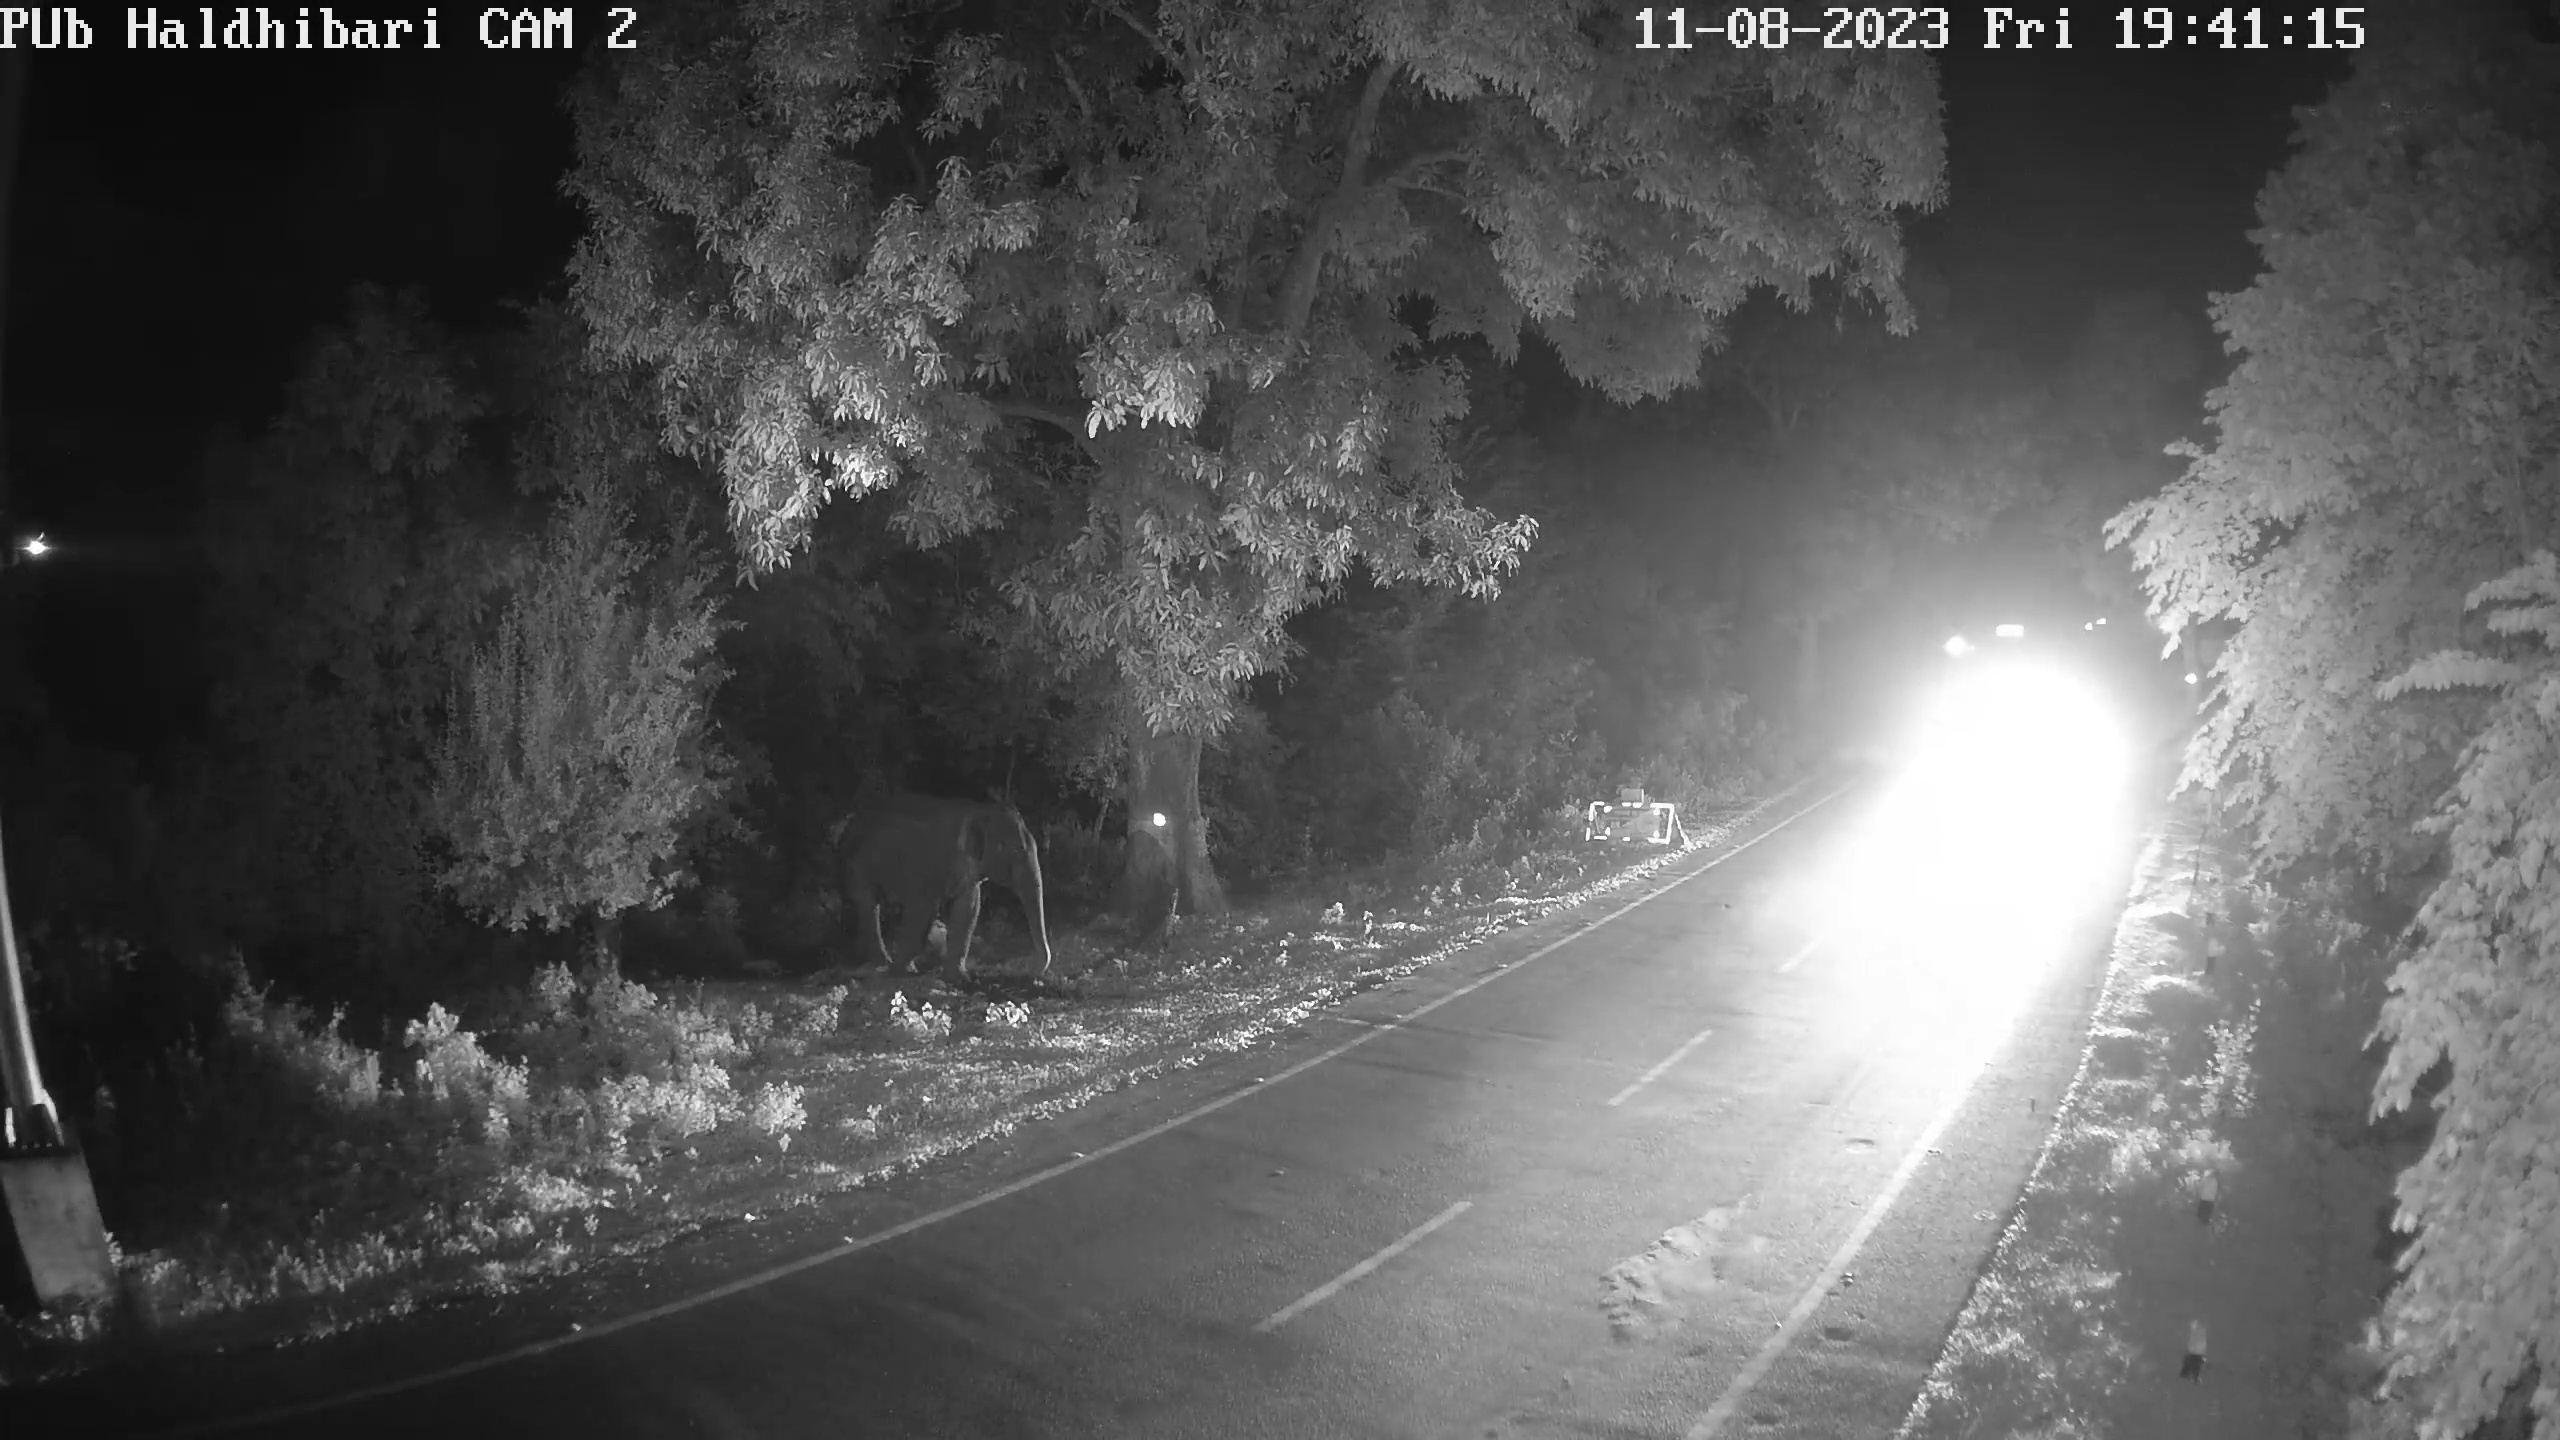elephants: (842, 802, 1053, 978)
